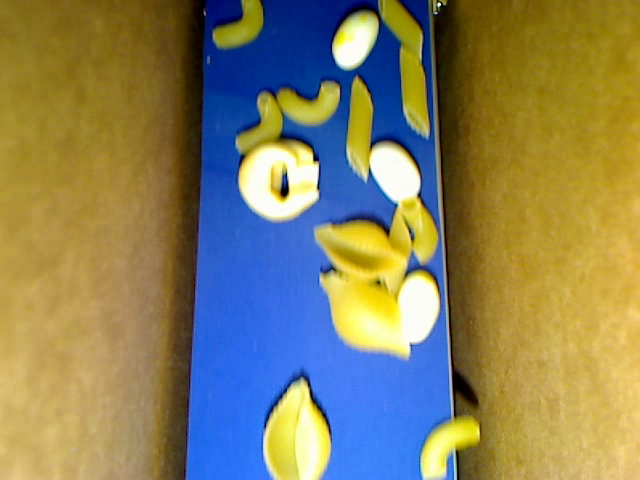elbow: (419, 415, 482, 479), (235, 91, 283, 155), (278, 79, 339, 128), (400, 196, 438, 265), (213, 1, 263, 51)
penne: (345, 73, 374, 184), (381, 204, 413, 298), (400, 47, 430, 139), (377, 1, 423, 59)
shell: (319, 268, 411, 360), (261, 377, 330, 479), (313, 218, 408, 278)
tortellini: (236, 140, 320, 222)
